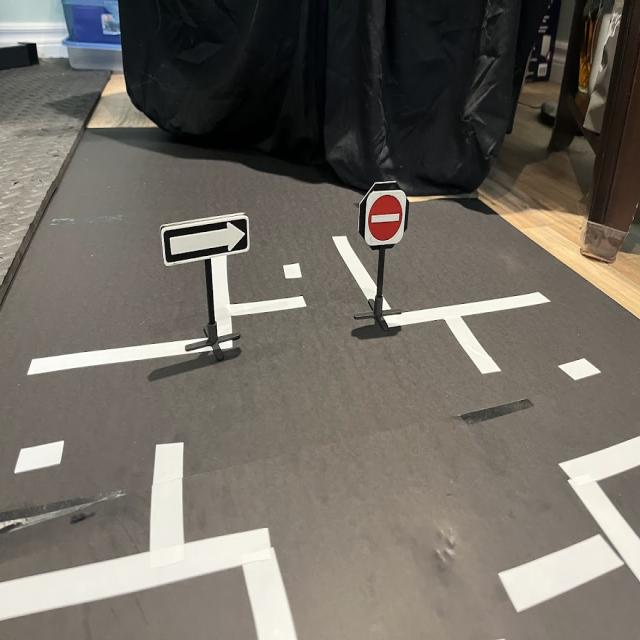sign_noentry: (365, 190, 408, 250)
sign_oneway_right: (160, 213, 252, 270)
